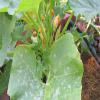Squash Powdery mildew leaf: (8, 31, 87, 99)
